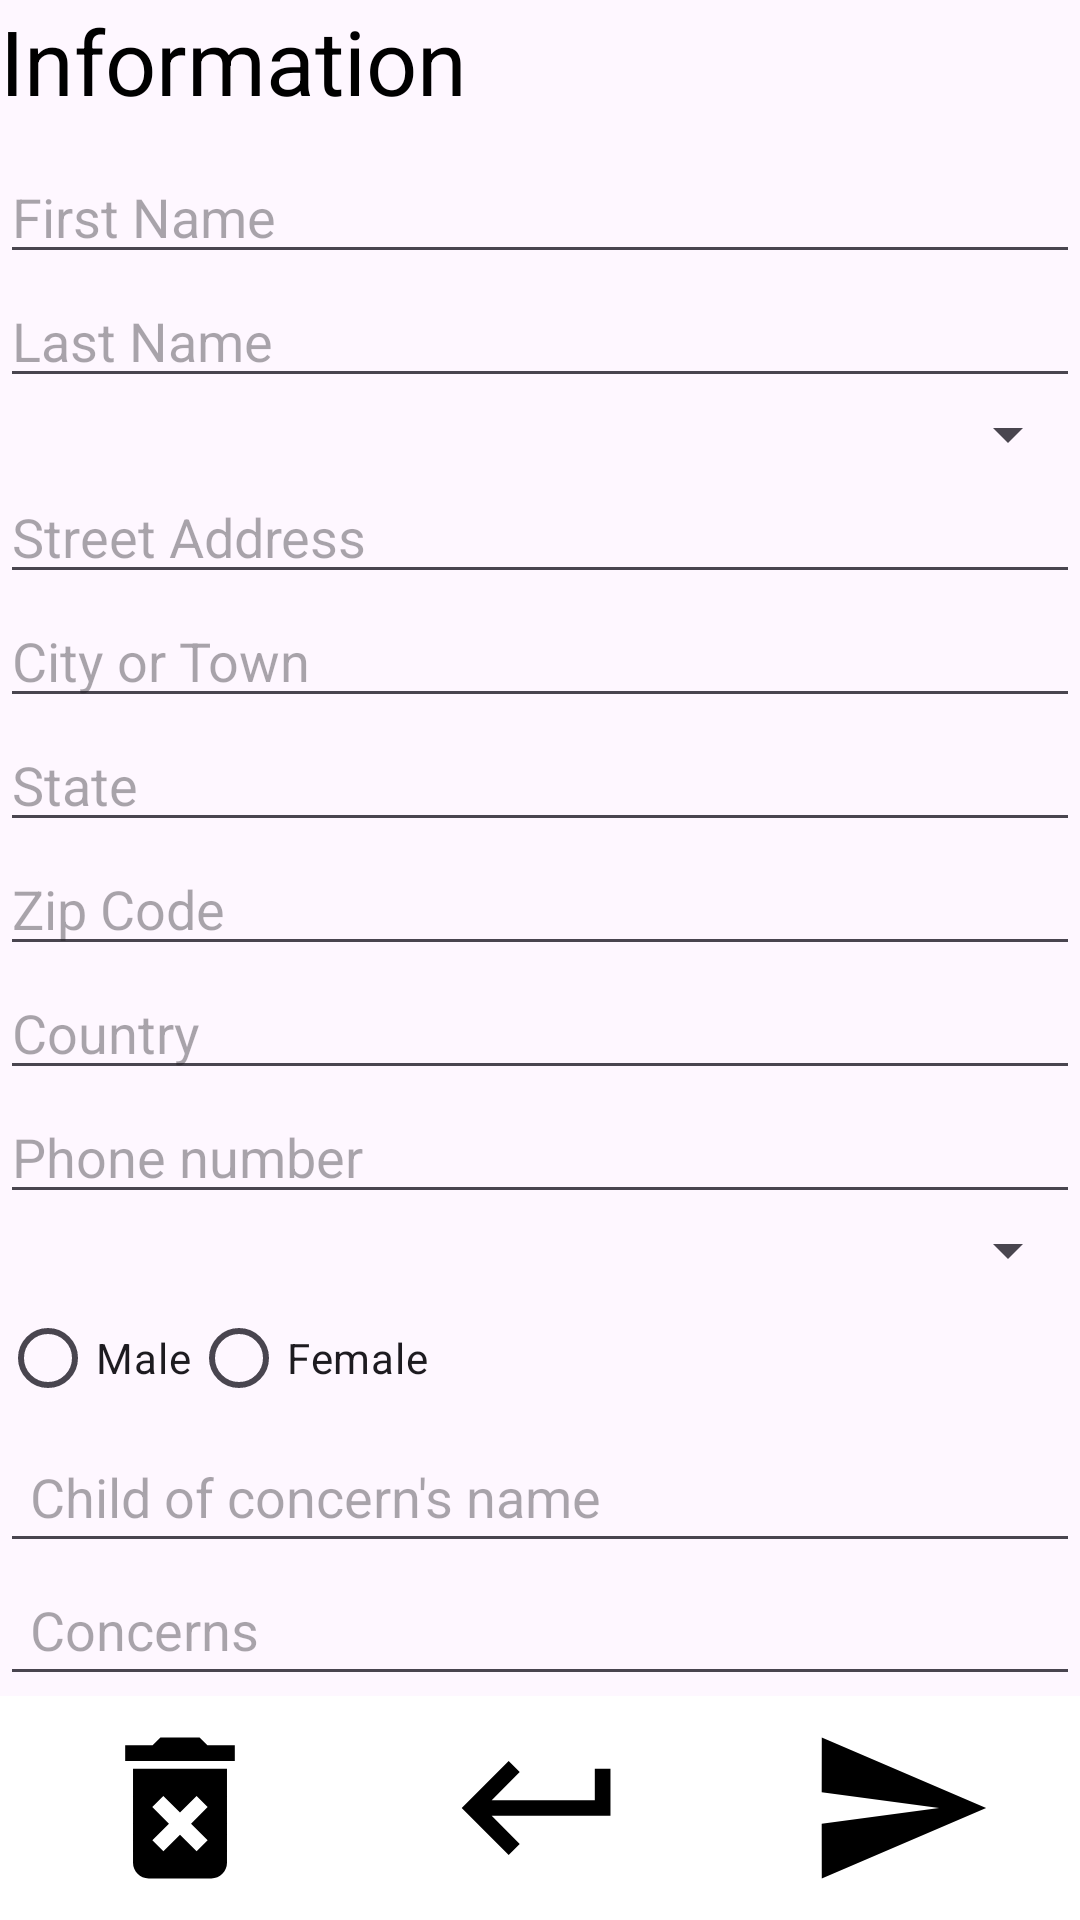

Screen size 1080*1920. Icon name, then its box in pixels as detection(x1, y1, x2, y2):
delete: detection(125, 1737, 235, 1879)
goback: detection(462, 1761, 611, 1855)
submit: detection(821, 1737, 986, 1879)
